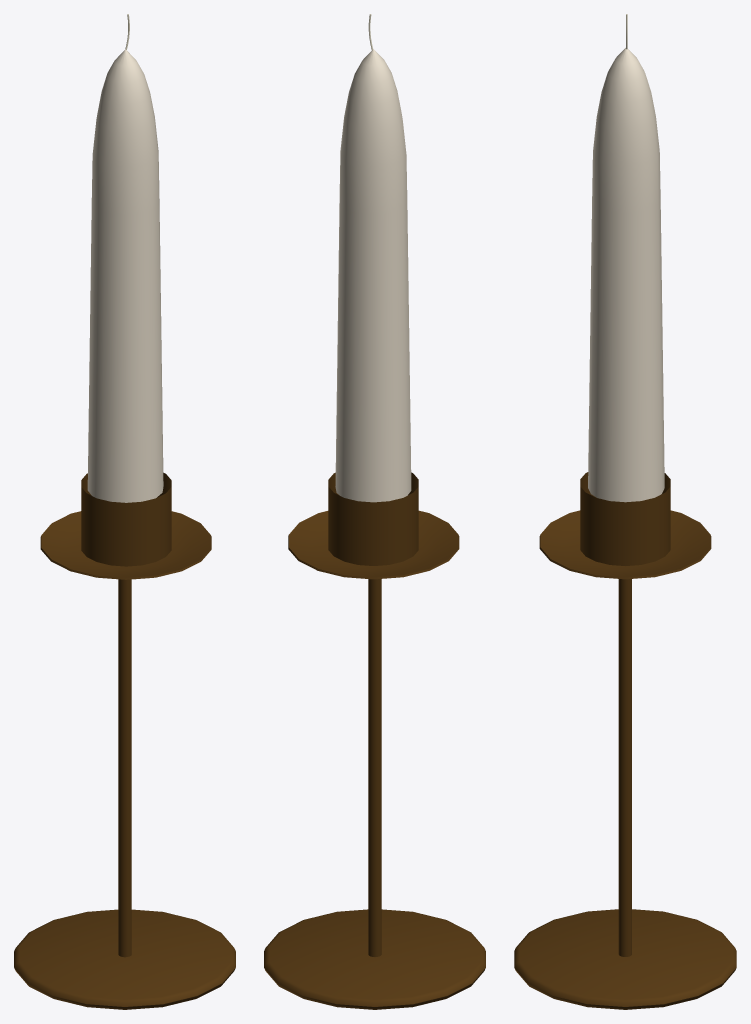
File: Candlestick-3.FBX
3 renders of one model, left to right at view 1: azimuth 30°, elevation 25°; view 2: azimuth 150°, elevation 25°; view 3: azimuth 270°, elevation 25°, orthographic.
Visible parts, largest first — view 1: ac0000322; view 2: ac0000322; view 3: ac0000322.
Part boxes in pixels (x1,y1,x2,y2): ac0000322: (14,14,235,1009); ac0000322: (264,14,485,1009); ac0000322: (514,14,736,1009).
Size of the model in its own units: 3.94 by 18.31 by 3.88.
